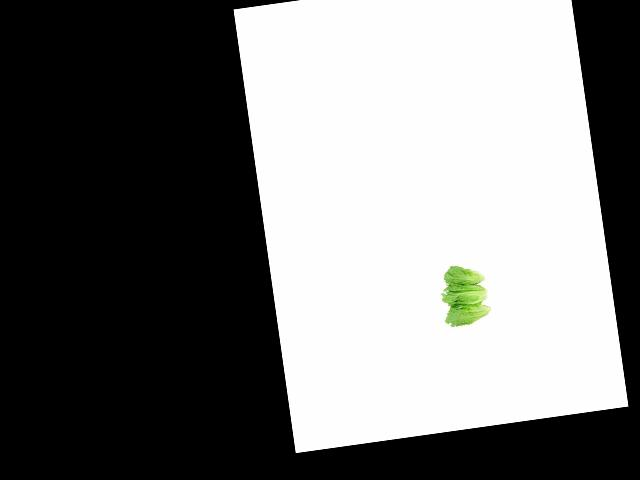lettuce: (440, 259, 496, 291)
